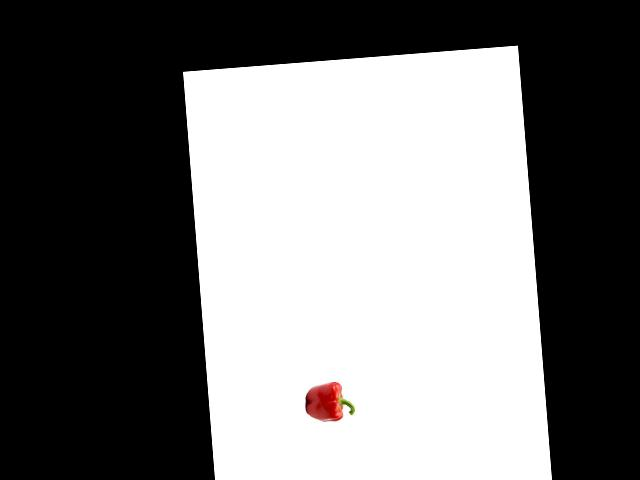bell_pepper: (301, 377, 357, 426)
